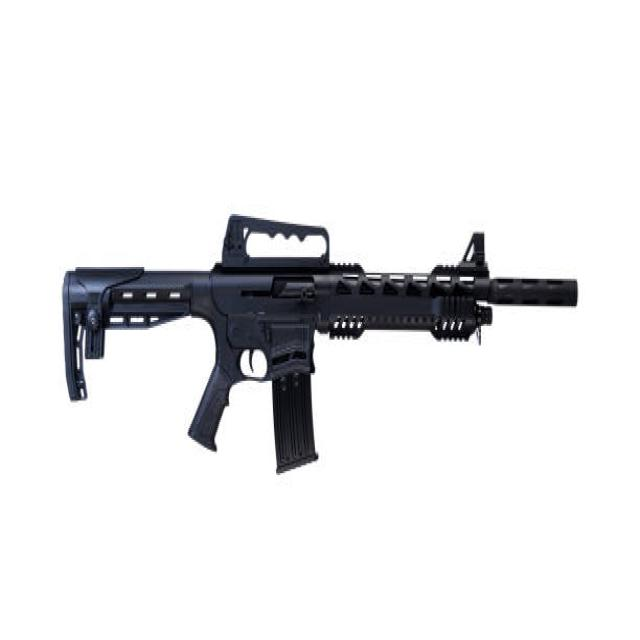rifle: (58, 200, 586, 493)
